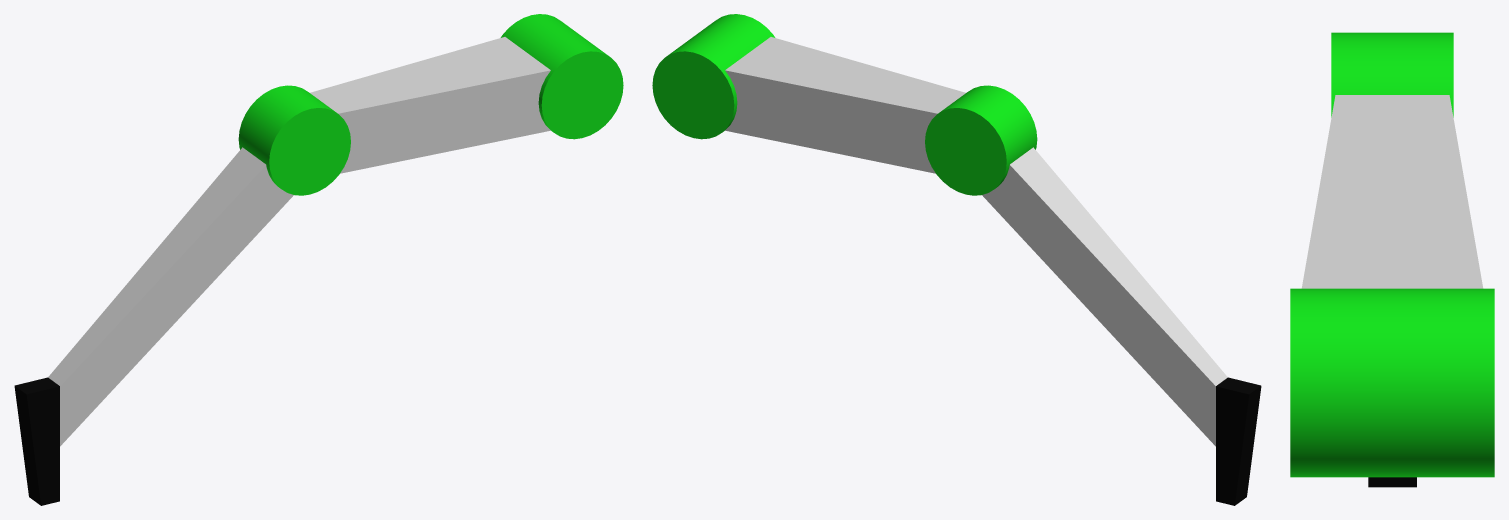
Rendered from claw-left.glb.
The picture shows the model from 3 angles, left to right: view 1: azimuth 30°, elevation 25°; view 2: azimuth 150°, elevation 25°; view 3: azimuth 270°, elevation 25°; orthographic projection. The views are drawn at different scales.
Visible parts, largest first — view 1: SM_Hand_Left; view 2: SM_Hand_Left; view 3: SM_Hand_Left.
Boxes of the visible parts, x1=… form: SM_Hand_Left: x1=14, y1=14, x2=623, y2=505; SM_Hand_Left: x1=652, y1=14, x2=1261, y2=505; SM_Hand_Left: x1=1290, y1=32, x2=1494, y2=487.
Size of the model in its own units: 2.38 by 1.34 by 0.3642.
